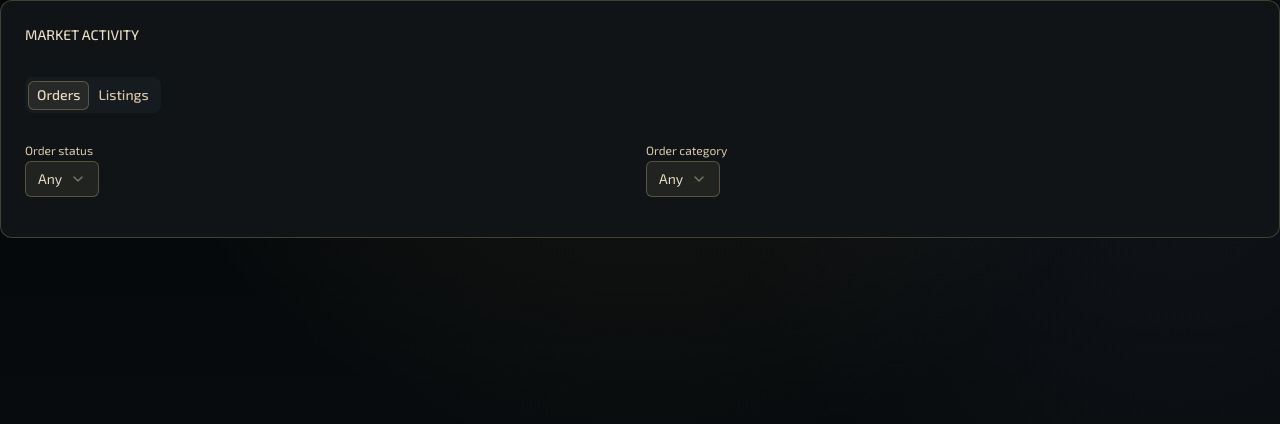
it: collection market panel › listings_rows_expose_token_detail_navigation
Click the tab "Listings".
click(124, 95)  # box [90,80,158,110]
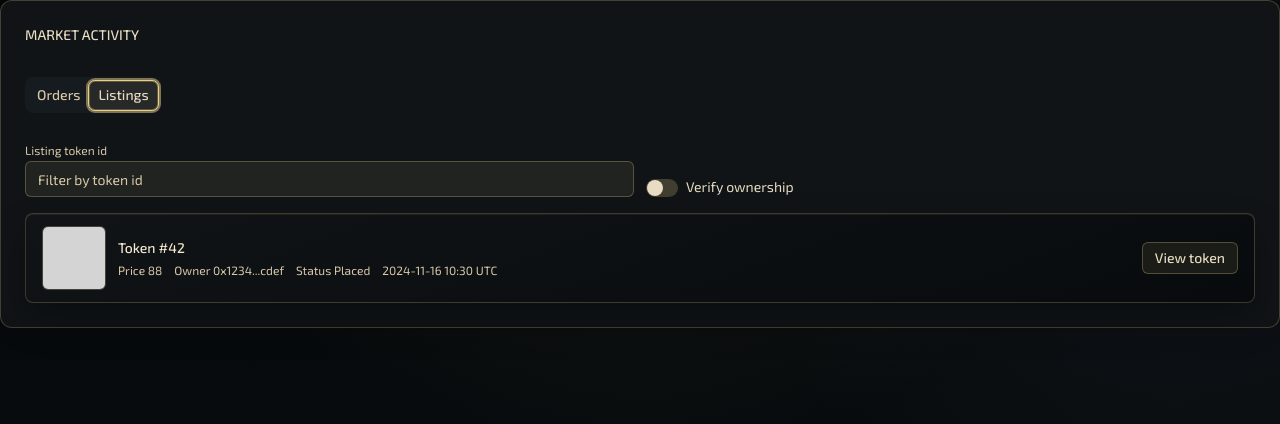
Expected: the text "Token #42" is shown, [118,239,185,256]
Expected: the text "Price 88" is shown, [118,262,162,278]
Expected: the text "Owner 0x1234...cdef" is shown, [174,262,284,278]
